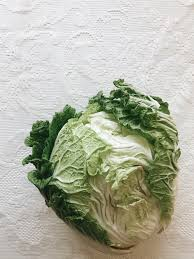cabbage: (37, 108, 186, 247)
